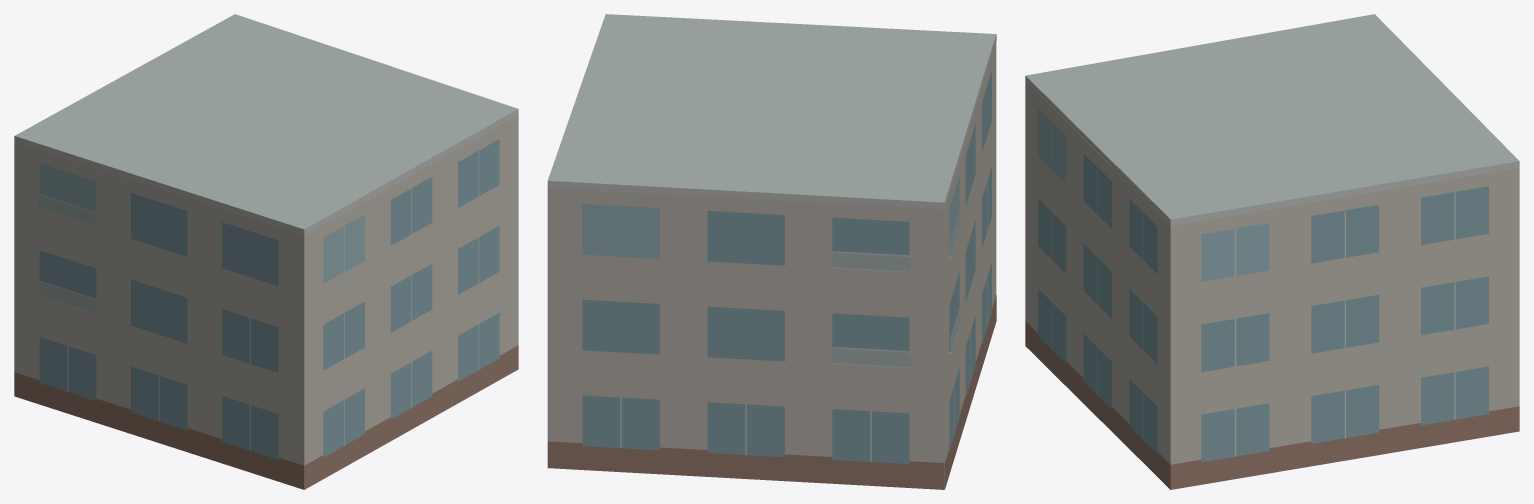
File: survey-upis-32737763.glb
The picture shows the model from 3 angles, left to right: view 1: azimuth 30°, elevation 25°; view 2: azimuth 150°, elevation 25°; view 3: azimuth 270°, elevation 25°; orthographic projection. The views are drawn at different scales.
Parts seen in each view (by area): view 1: survey-upis-32737763.tmp; view 2: survey-upis-32737763.tmp; view 3: survey-upis-32737763.tmp.
Part boxes in pixels (<box>): survey-upis-32737763.tmp: <box>14,14,518,489</box>; survey-upis-32737763.tmp: <box>547,14,996,489</box>; survey-upis-32737763.tmp: <box>1025,14,1519,489</box>.
Size of the model in its own units: 16.15 by 9.9 by 16.41.
